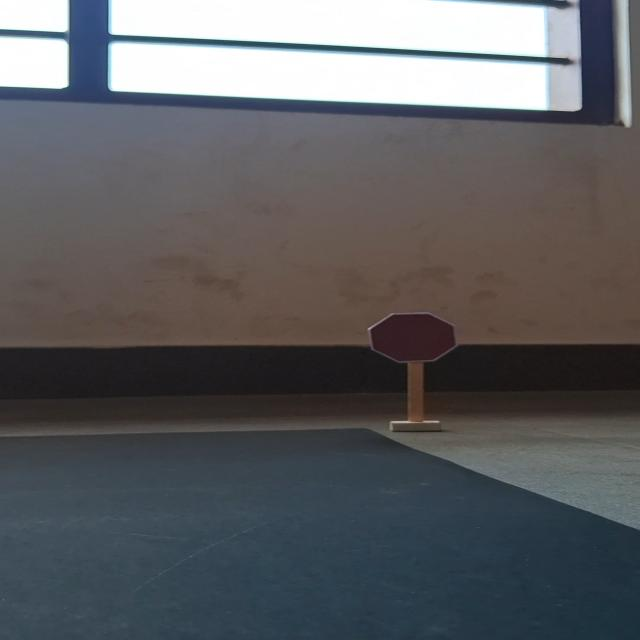Stop: (366, 308, 462, 364)
